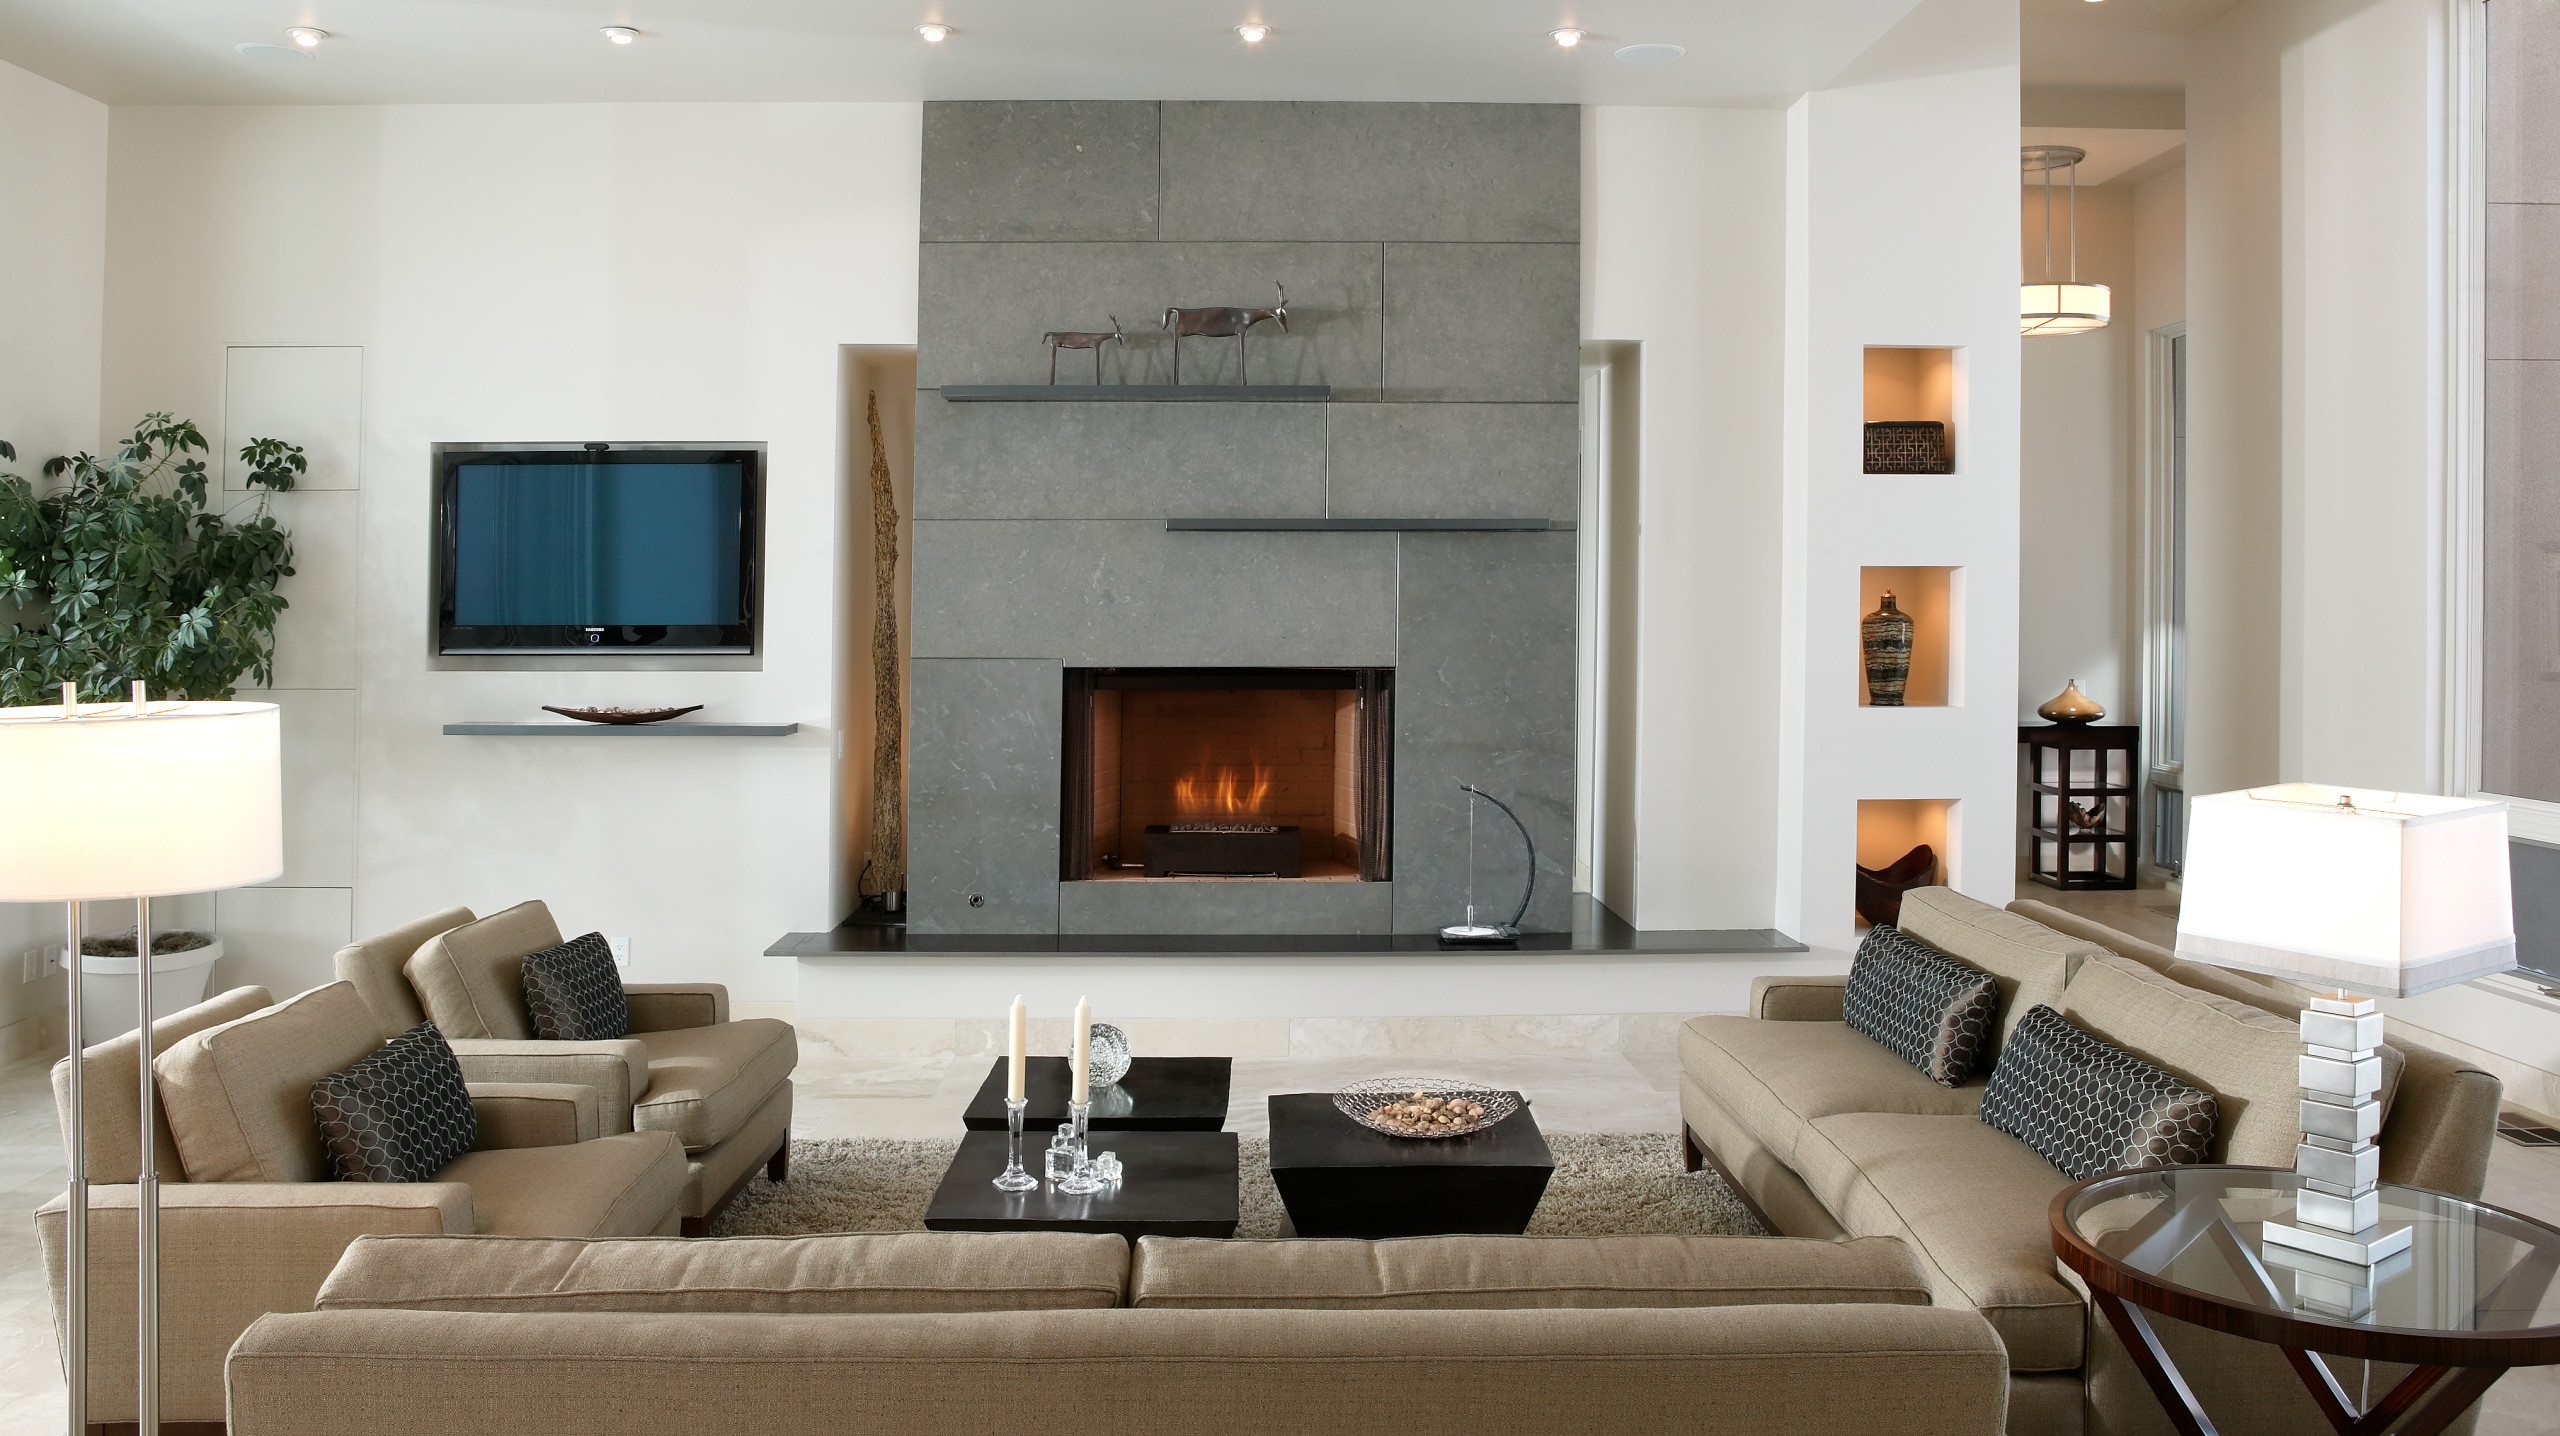TV: (417, 432, 772, 678)
chair: (37, 972, 705, 1436), (331, 895, 796, 1237)
floor lamp: (0, 657, 294, 1432)
large plant: (0, 404, 309, 1042)
sofa: (1674, 877, 2507, 1424), (220, 1216, 2020, 1432)
table: (2048, 1142, 2555, 1431), (1261, 1076, 1561, 1236), (921, 1125, 1254, 1232), (965, 1032, 1247, 1128)
table lamp: (2166, 772, 2525, 1273)
